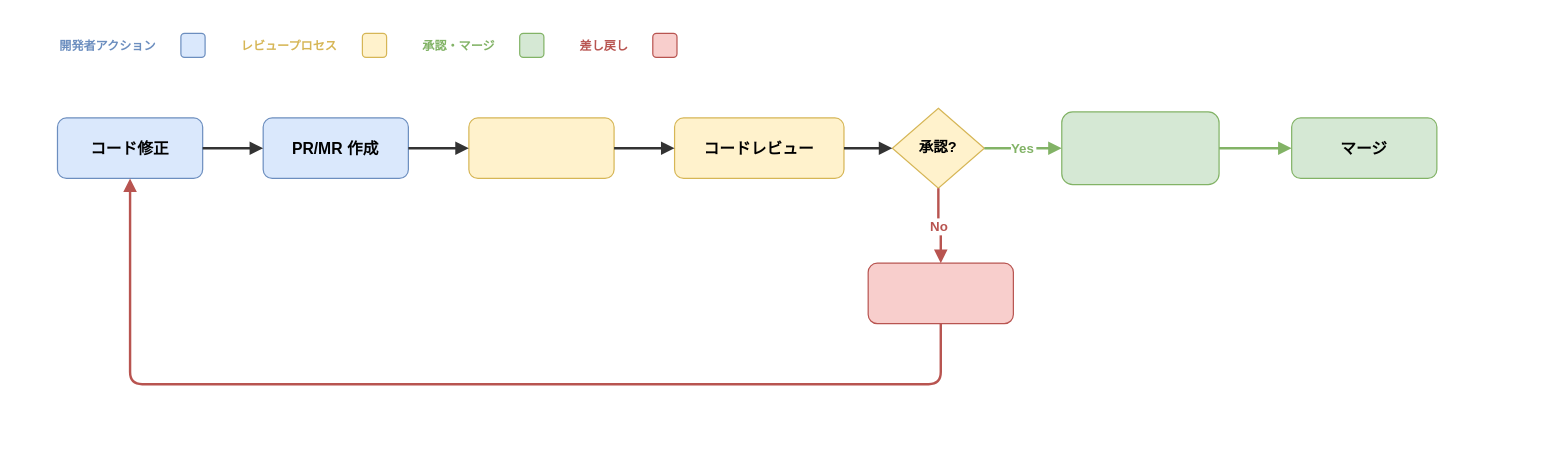
This 1566x453 diagram has some shape labels left out. The box of each missing label's shape, as (x1, y1, x2, y2) in pixels:
LGTM (承認): (1061, 111, 1219, 185)
レビュー依頼: (468, 117, 614, 178)
修正依頼: (867, 262, 1013, 324)
